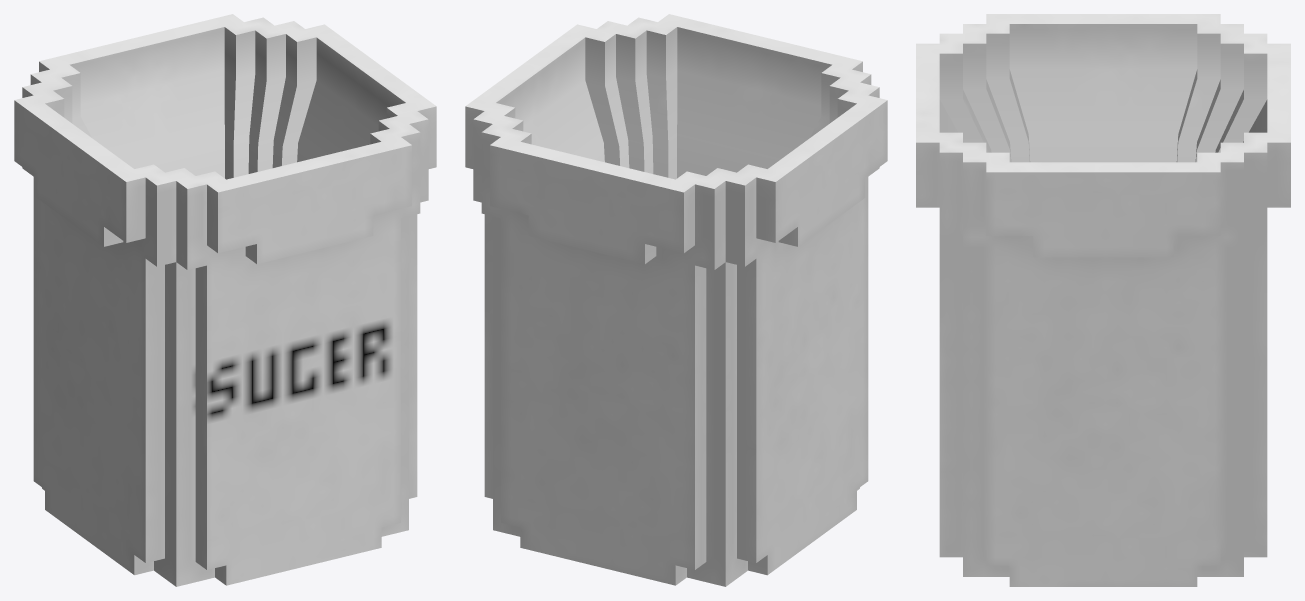
The model's file is Sugar_Final 1.fbx.
3 renders of one model, left to right at view 1: azimuth 30°, elevation 25°; view 2: azimuth 150°, elevation 25°; view 3: azimuth 270°, elevation 25°, orthographic. The views are drawn at different scales.
Visible parts, largest first — view 1: Polygon; view 2: Polygon; view 3: Polygon.
Part boxes in pixels (x1,y1,x2,y2): Polygon: (14,14,436,586); Polygon: (465,14,887,586); Polygon: (916,14,1290,586).
Size of the model in its own units: 26.93 by 33.66 by 26.93.
1 material, 1 textured.
